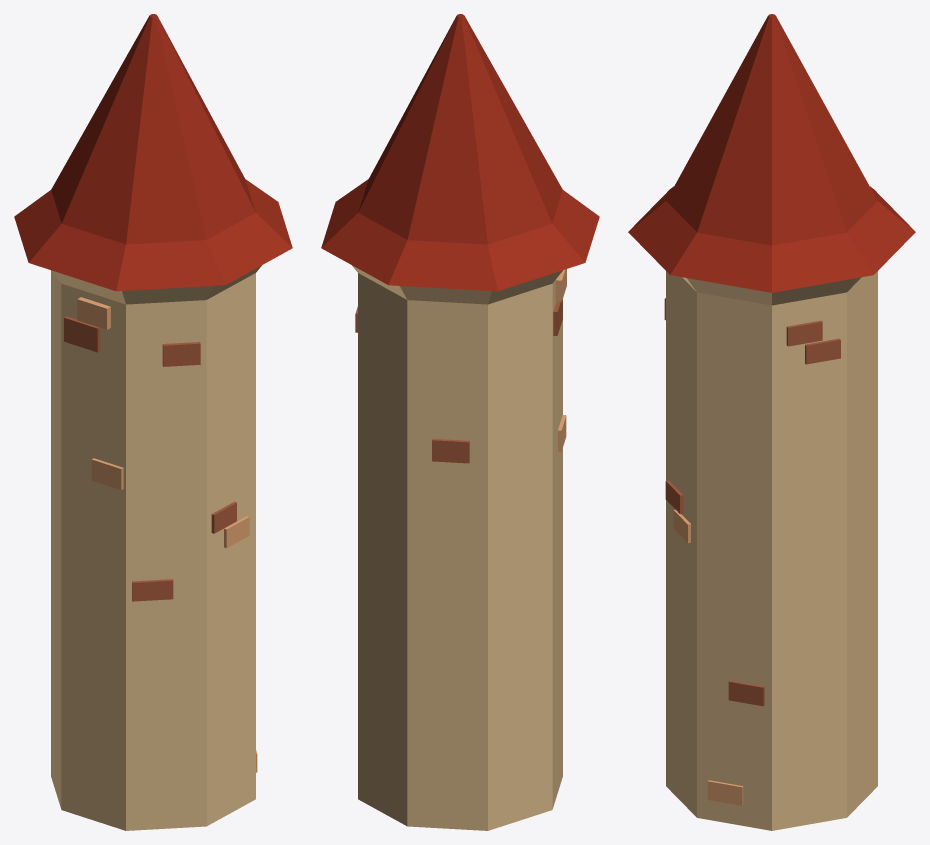
File: Tower_3.glb
3 views of the same model, side by side, from view 1: azimuth 30°, elevation 25°; view 2: azimuth 150°, elevation 25°; view 3: azimuth 270°, elevation 25° (orthographic).
Parts seen in each view (by area): view 1: Tower_3; view 2: Tower_3; view 3: Tower_3.
Boxes of the visible parts, x1,y1,x2,y2 form: Tower_3: (14, 14, 292, 830); Tower_3: (321, 14, 599, 830); Tower_3: (628, 14, 915, 830).
Size of the model in its own units: 2 by 5.91 by 2.
